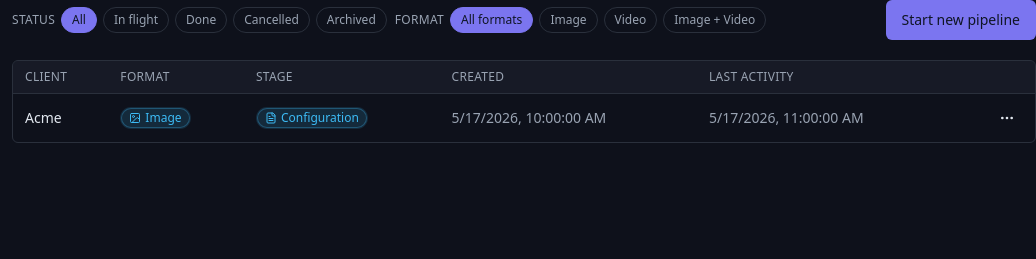
Scenario: PipelineList › renders the 'no matches' state when filters exclude every row
Click the button "Done" at [201, 20], box x1=175 y1=7 x2=227 y2=33
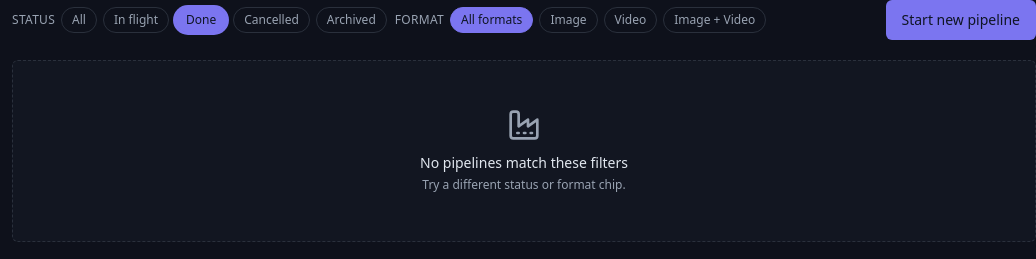
Expected: the text "No pipelines match these filters" is shown, x1=420 y1=153 x2=628 y2=173
